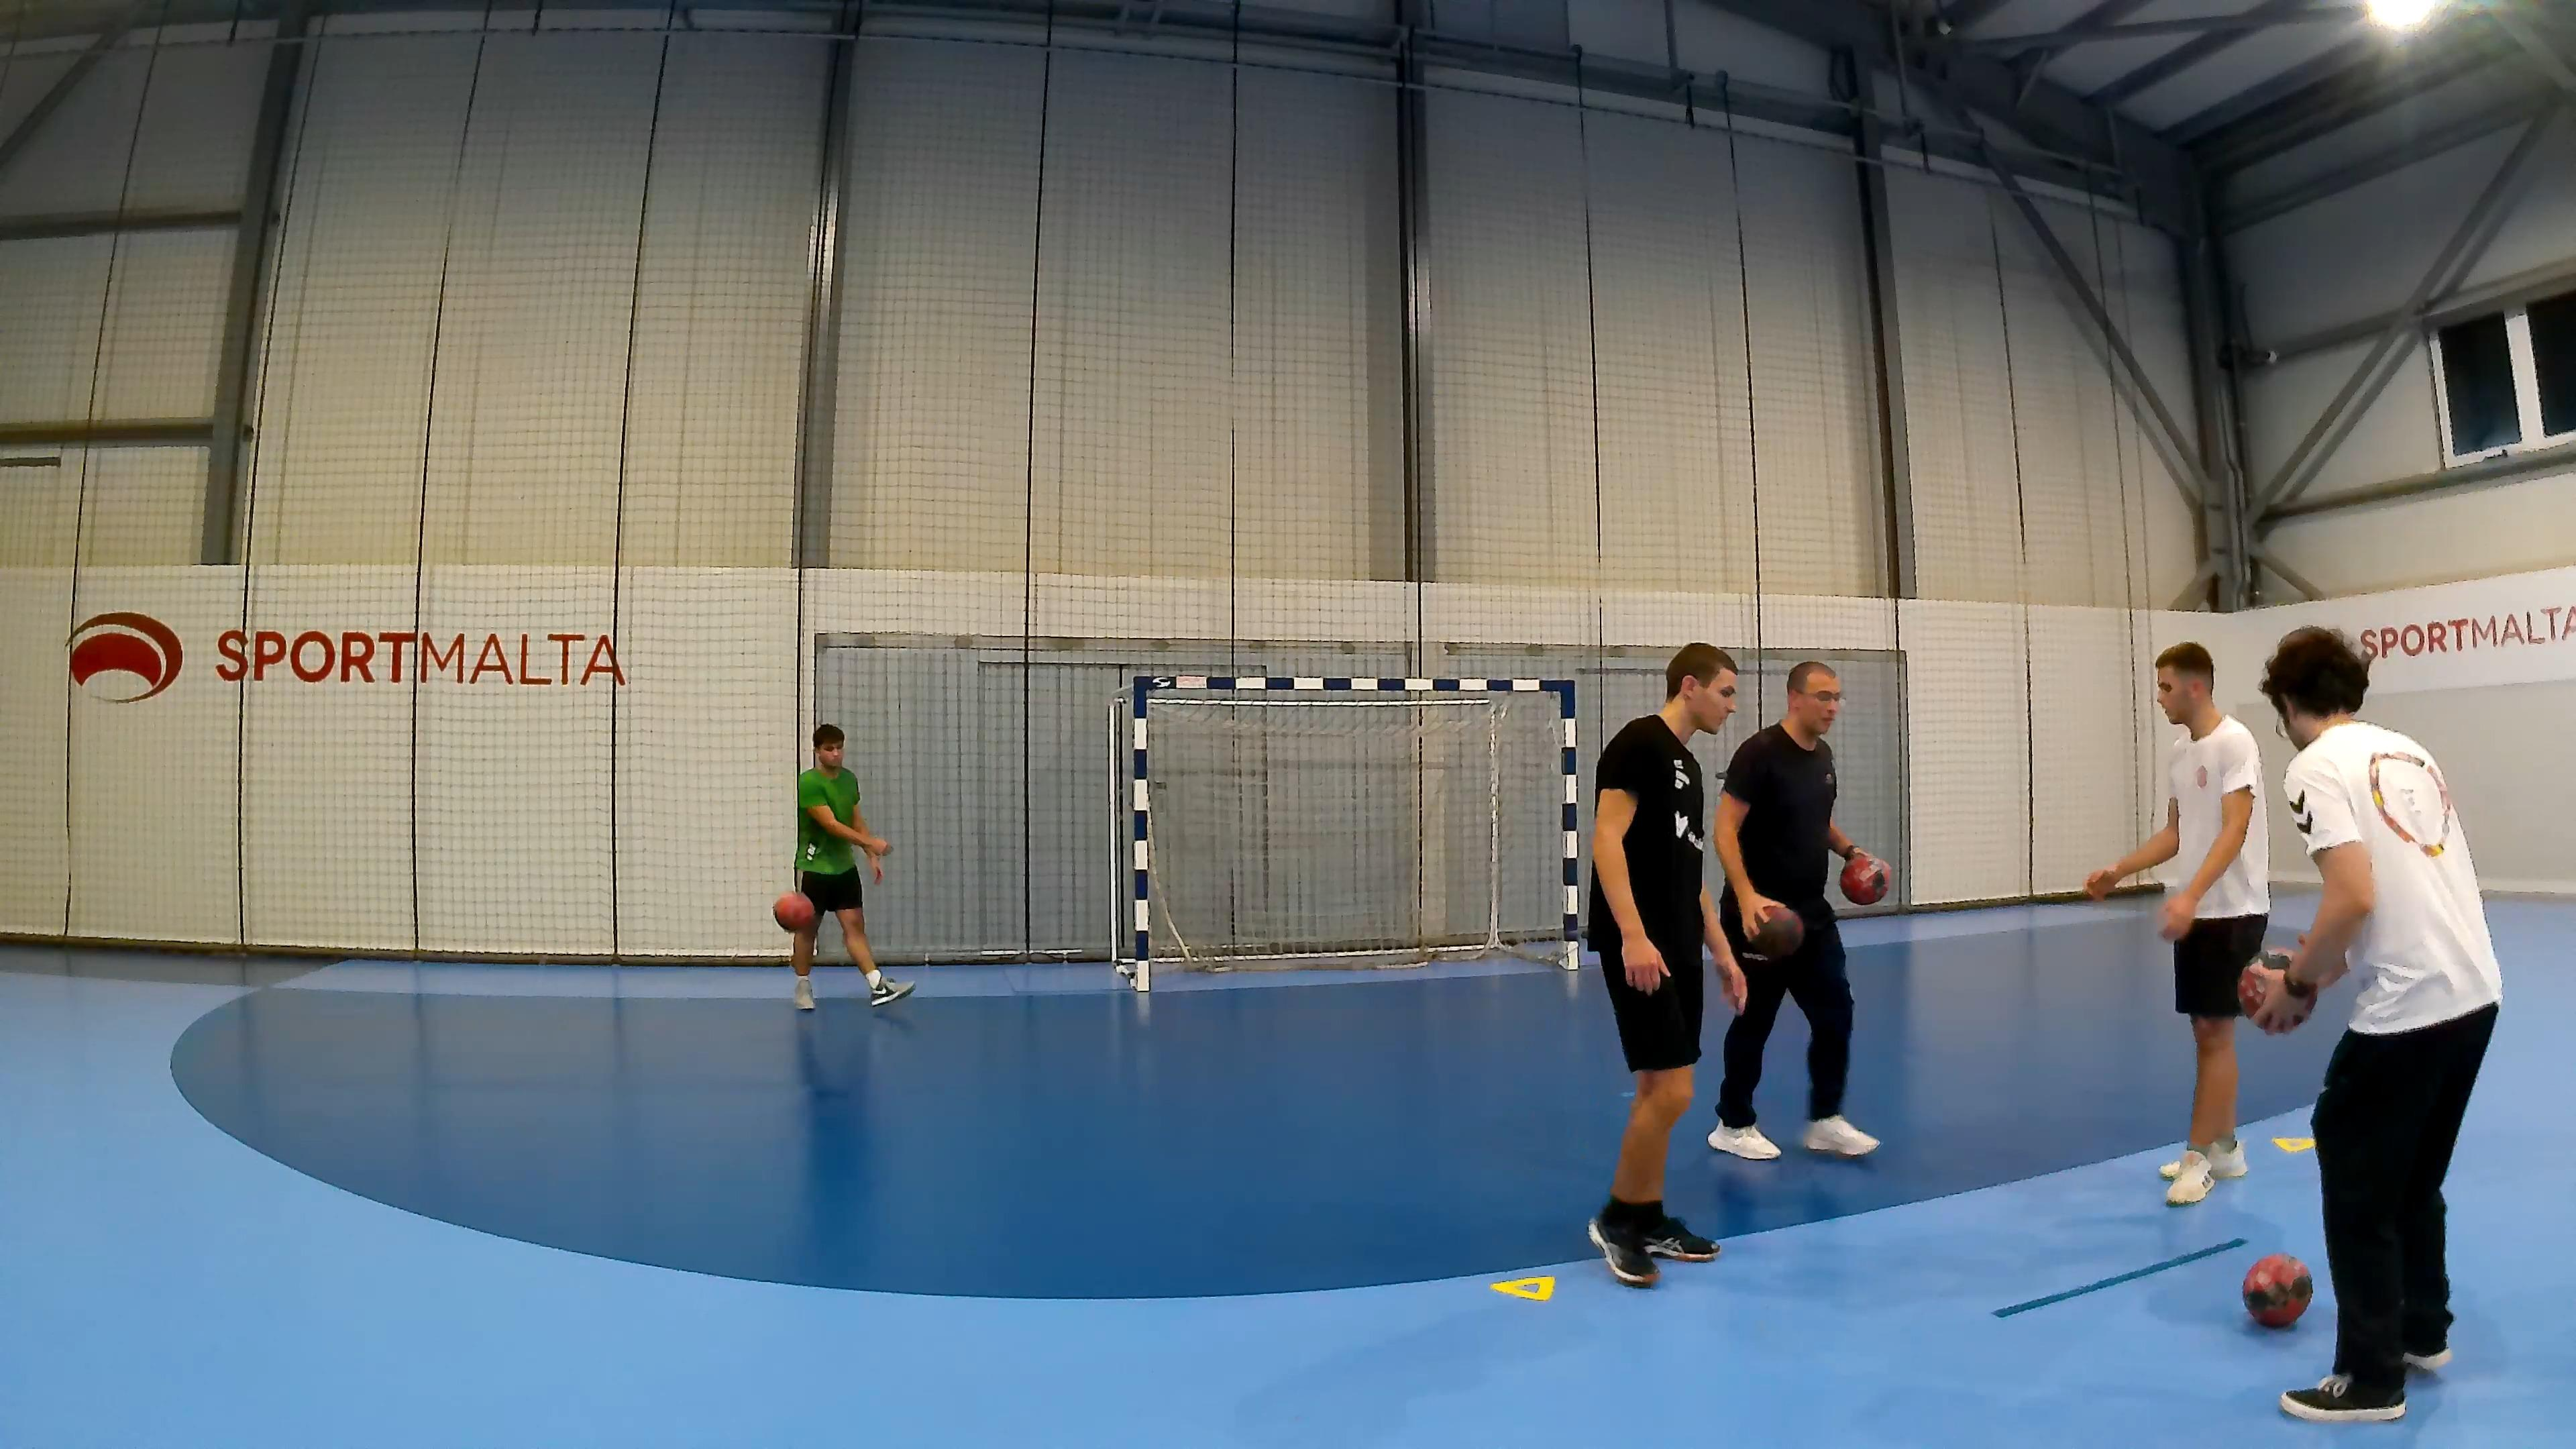handball: (2242, 1253, 2312, 1327), (1746, 902, 1805, 961), (1838, 851, 1890, 904), (771, 892, 816, 931)
